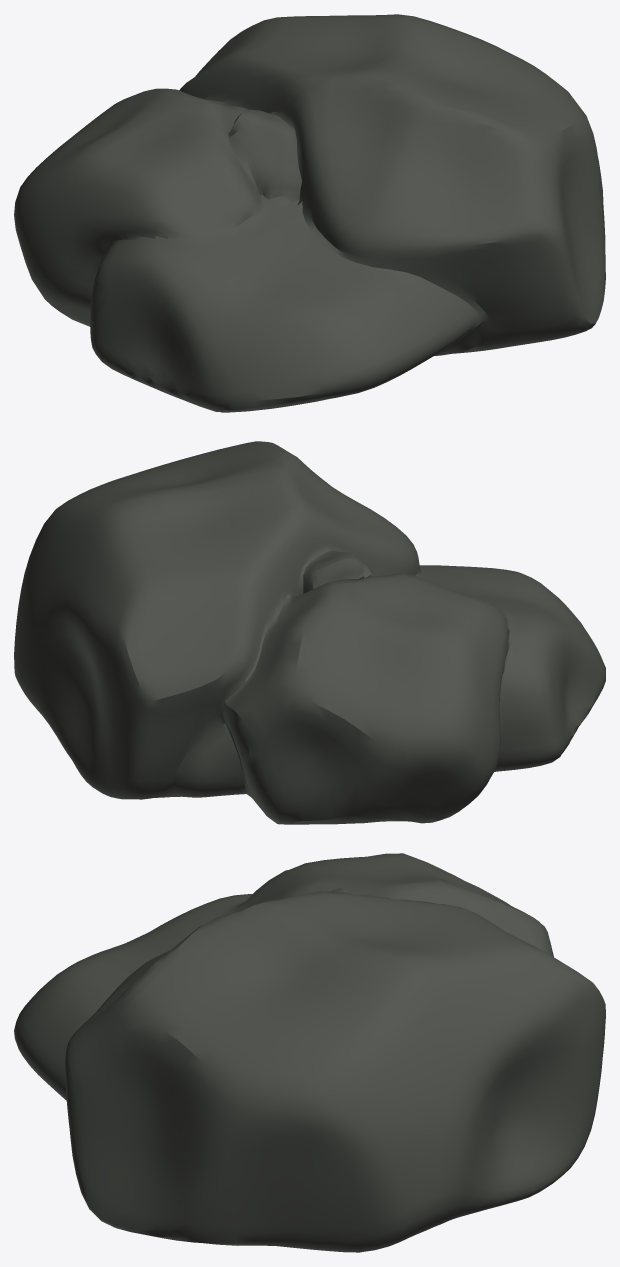
Rendered from quaternius-pirate-cliff-1.glb.
3 views of the same model, one above another, from view 1: azimuth 30°, elevation 25°; view 2: azimuth 150°, elevation 25°; view 3: azimuth 270°, elevation 25° (orthographic). The views are drawn at different scales.
Parts seen in each view (by area): view 1: Environment_Cliff1; view 2: Environment_Cliff1; view 3: Environment_Cliff1.
Part boxes in pixels (left/top/right/bottom): Environment_Cliff1: left=14, top=14, right=605, bottom=412; Environment_Cliff1: left=14, top=441, right=605, bottom=824; Environment_Cliff1: left=14, top=853, right=605, bottom=1252.
Size of the model in its own units: 5.63 by 2.96 by 5.41.
1 material, 1 textured.
